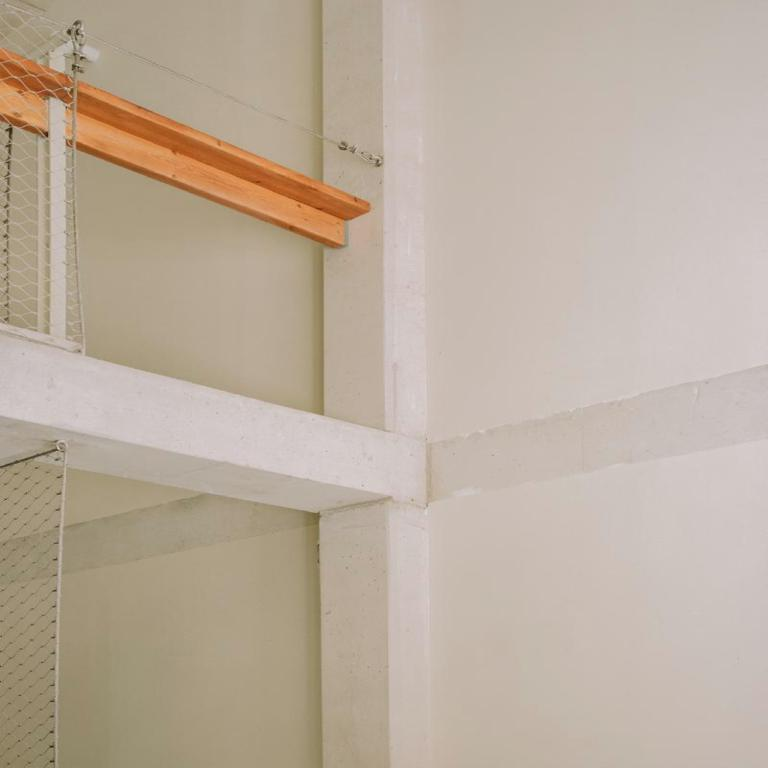white-walls: (448, 35, 735, 419)
